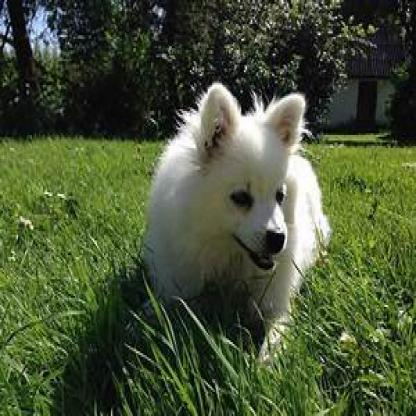dog: (144, 81, 330, 364)
